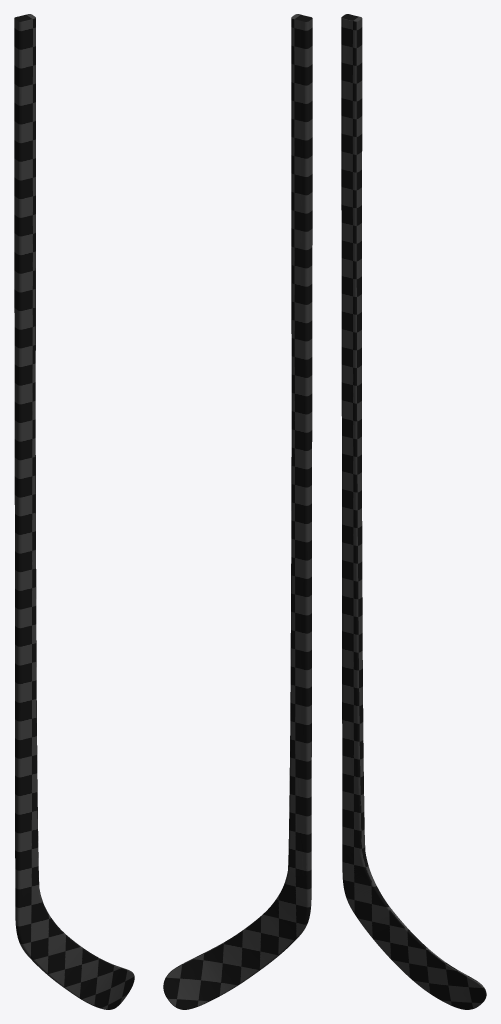
Rendered from P114-SBT.glb.
3 renders of one model, left to right at view 1: azimuth 30°, elevation 25°; view 2: azimuth 150°, elevation 25°; view 3: azimuth 330°, elevation 25°, orthographic. The views are drawn at different scales.
Visible parts, largest first — view 1: geometry_0; view 2: geometry_0; view 3: geometry_0.
Boxes of the visible parts, left/top/right/bottom form: geometry_0: left=14, top=14, right=134, bottom=1009; geometry_0: left=163, top=14, right=312, bottom=1009; geometry_0: left=341, top=14, right=486, bottom=1009.
Size of the model in its own units: 225 by 1650 by 62.19.
1 material, 1 textured.
